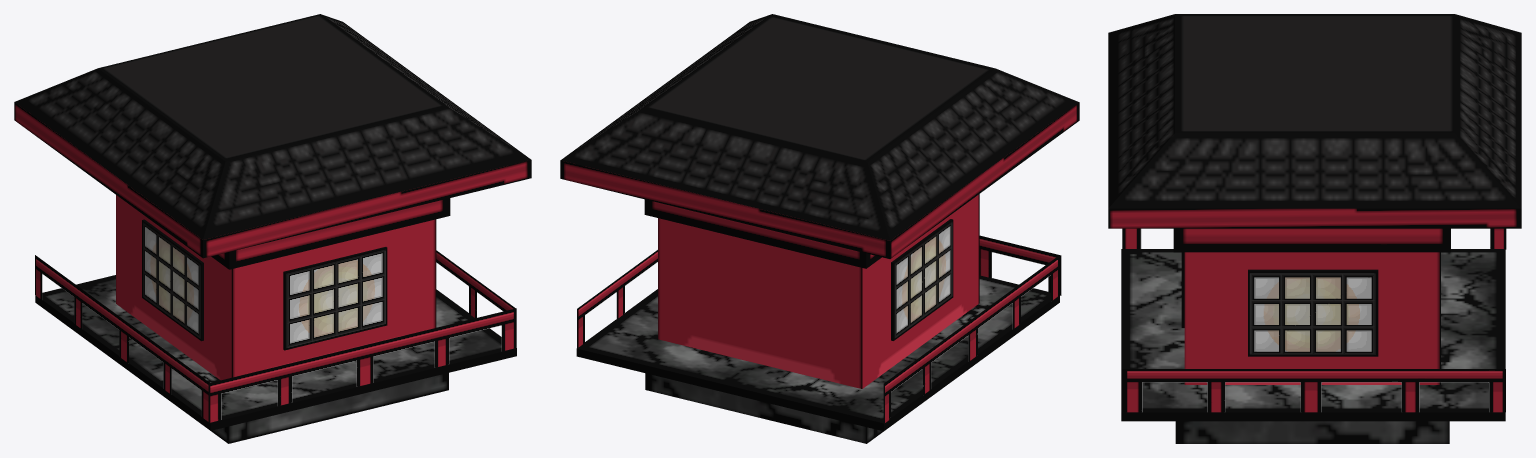
File: Lower_Tower.FBX
The picture shows the model from 3 angles, left to right: view 1: azimuth 30°, elevation 25°; view 2: azimuth 150°, elevation 25°; view 3: azimuth 270°, elevation 25°; orthographic projection. The views are drawn at different scales.
Parts seen in each view (by area): view 1: Box010, Box008, Box001, Box005, Box002, Box003; view 2: Box010, Box001, Box008, Box005, Box003, Box002; view 3: Box010, Box008, Box001, Box005, Box002, Box003.
Part boxes in pixels (x1,y1,x2,y2): Box010: (14, 14, 531, 258); Box008: (35, 250, 516, 430); Box001: (116, 195, 436, 380); Box005: (142, 219, 387, 350); Box002: (211, 198, 450, 269); Box003: (211, 373, 448, 443); Box010: (560, 14, 1079, 258); Box001: (658, 194, 979, 388); Box008: (576, 235, 1061, 431); Box005: (891, 219, 953, 340); Box003: (645, 373, 883, 443); Box002: (644, 199, 881, 268); Box010: (1108, 14, 1521, 228); Box008: (1121, 228, 1506, 421); Box001: (1184, 252, 1440, 384); Box005: (1181, 252, 1378, 356); Box002: (1173, 228, 1450, 252); Box003: (1175, 421, 1449, 443).
Bounding box in the file's own units: 64.98 × 53.52 × 64.6.
Materials: 2 (2 with a texture image).
